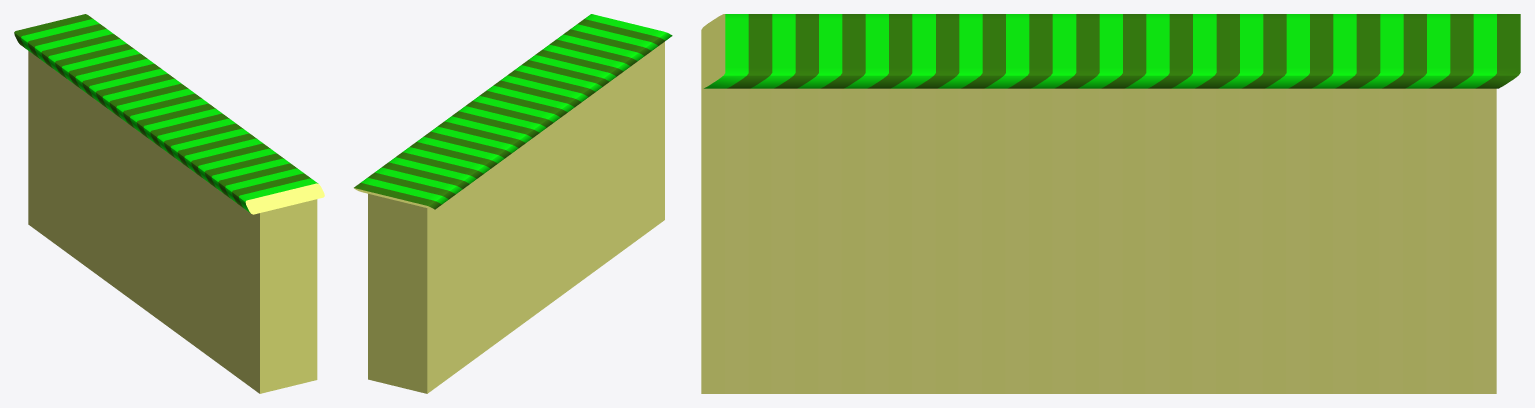
Rendered from ground.fbx.
3 renders of one model, left to right at view 1: azimuth 30°, elevation 25°; view 2: azimuth 150°, elevation 25°; view 3: azimuth 270°, elevation 25°, orthographic. The views are drawn at different scales.
Visible parts, largest first — view 1: Cube; view 2: Cube; view 3: Cube.
Boxes of the visible parts, box(x1,y1,x2,y2) form: Cube: box(14, 14, 324, 393); Cube: box(354, 14, 672, 393); Cube: box(701, 14, 1520, 393).
Bounding box in the file's own units: 260 × 630 × 1433.
